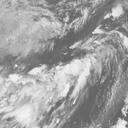cyclone: (44, 61, 95, 100)
